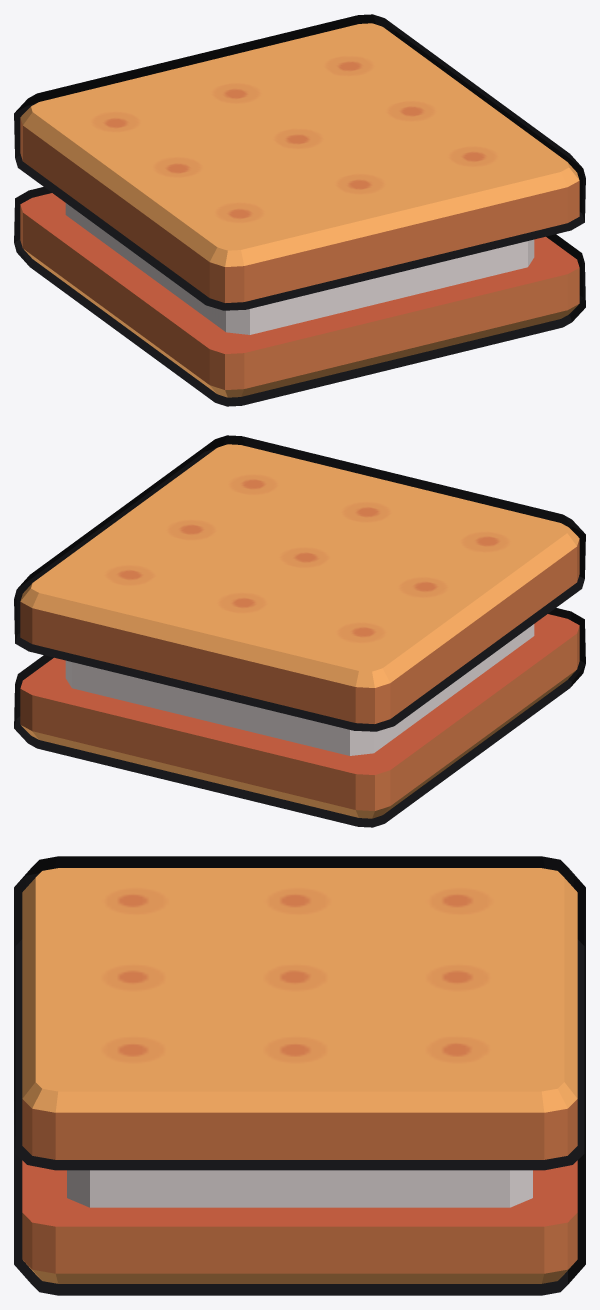
Rendered from Cookie_Light.fbx.
3 renders of one model, top to bottom at view 1: azimuth 30°, elevation 25°; view 2: azimuth 150°, elevation 25°; view 3: azimuth 270°, elevation 25°, orthographic. The views are drawn at different scales.
Parts seen in each view (by area): view 1: Plane.001; view 2: Plane.001; view 3: Plane.001.
Part boxes in pixels (left/top/right/bottom): Plane.001: left=14, top=14, right=585, bottom=406; Plane.001: left=14, top=435, right=585, bottom=827; Plane.001: left=14, top=856, right=585, bottom=1295.
Bounding box in the file's own units: 6.33 × 2.59 × 6.33.
